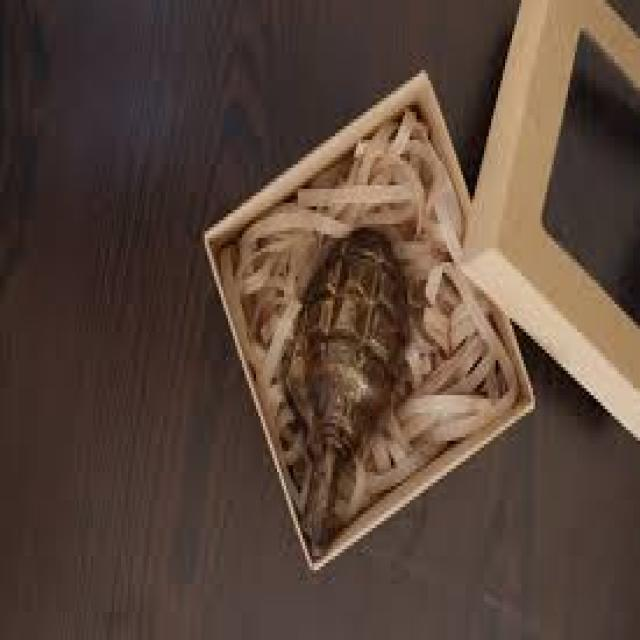grenade: (286, 225, 414, 559)
